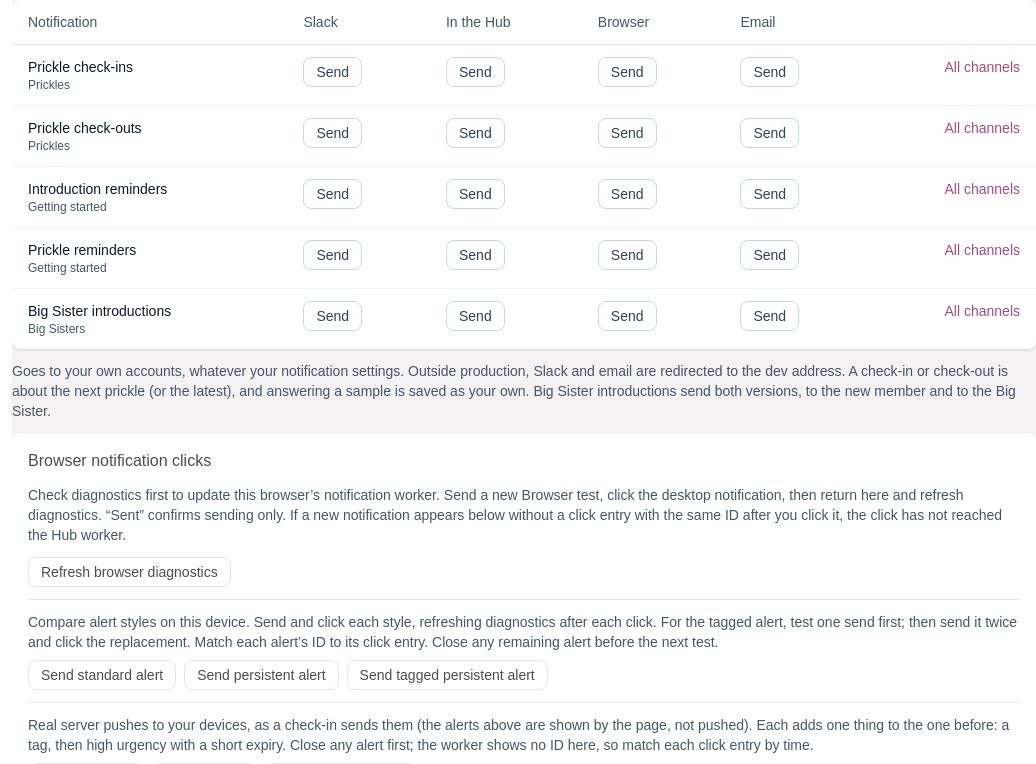
Test: TestNotifications › shows why a channel couldn't send, beside its button
This screenshot has width=1036, height=764.
Click the button with aria-label "Send Prickle reminders by Email": (770, 255) left=740, top=240, right=799, bottom=270
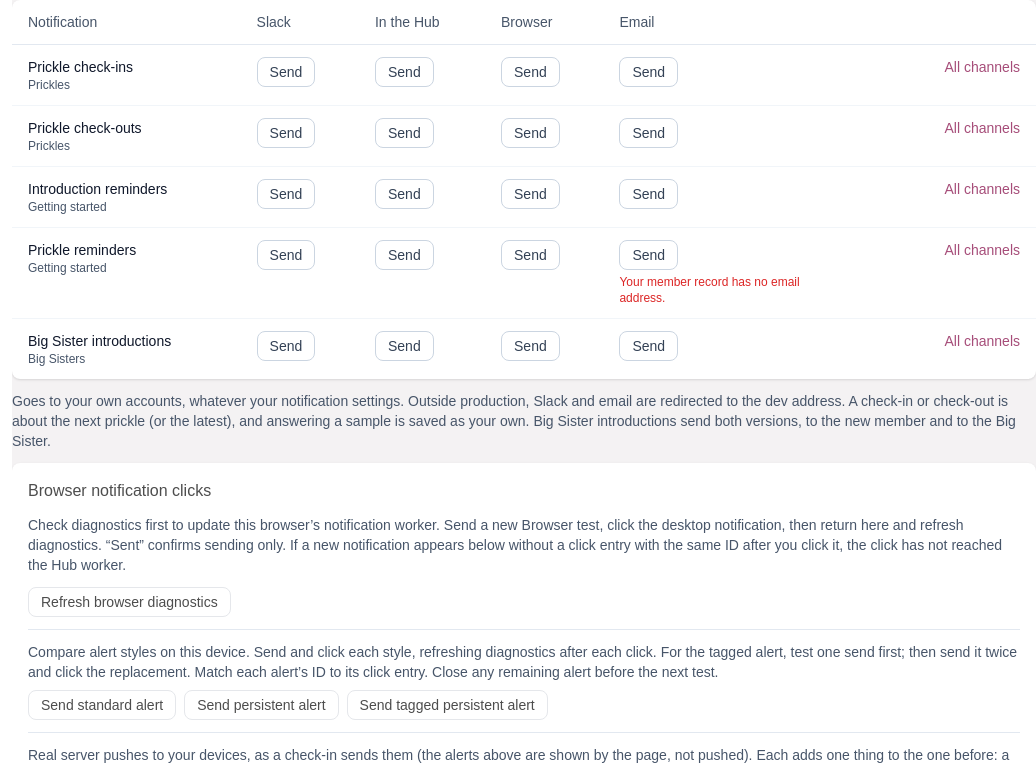
Result: the message reads "Your member record has no email address." at left=619, top=275, right=800, bottom=305
